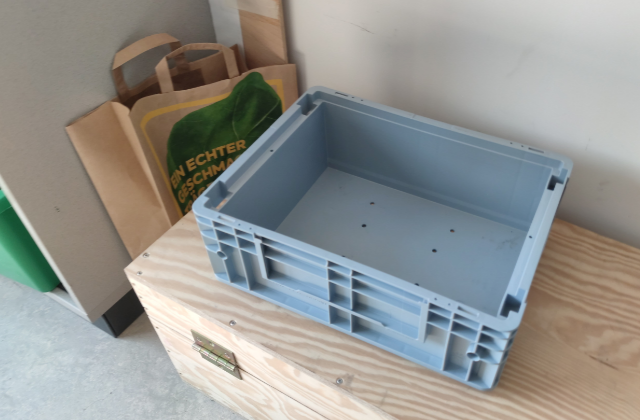Box: (191, 83, 577, 392)
